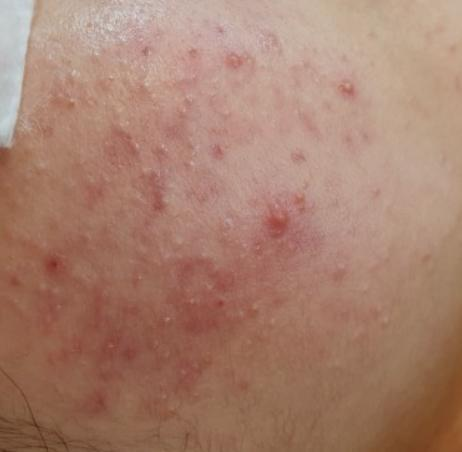papular: (252, 202, 305, 244), (145, 191, 193, 218)
purulent: (335, 76, 368, 115)
whitehead: (47, 50, 111, 114), (157, 389, 195, 433), (132, 69, 168, 109), (367, 305, 403, 336), (36, 278, 59, 321), (119, 132, 148, 164), (220, 45, 252, 72), (183, 141, 204, 178), (260, 27, 285, 57), (152, 308, 181, 333), (86, 37, 111, 66), (77, 233, 102, 259), (156, 344, 183, 368), (145, 327, 164, 359), (154, 251, 193, 266), (28, 160, 50, 186), (174, 95, 195, 121), (328, 258, 349, 284), (193, 249, 221, 268), (153, 141, 173, 164), (99, 340, 121, 360), (130, 270, 151, 290), (237, 333, 261, 350), (220, 103, 236, 124), (201, 277, 218, 295), (266, 313, 279, 336), (69, 179, 79, 203), (250, 301, 264, 318)
